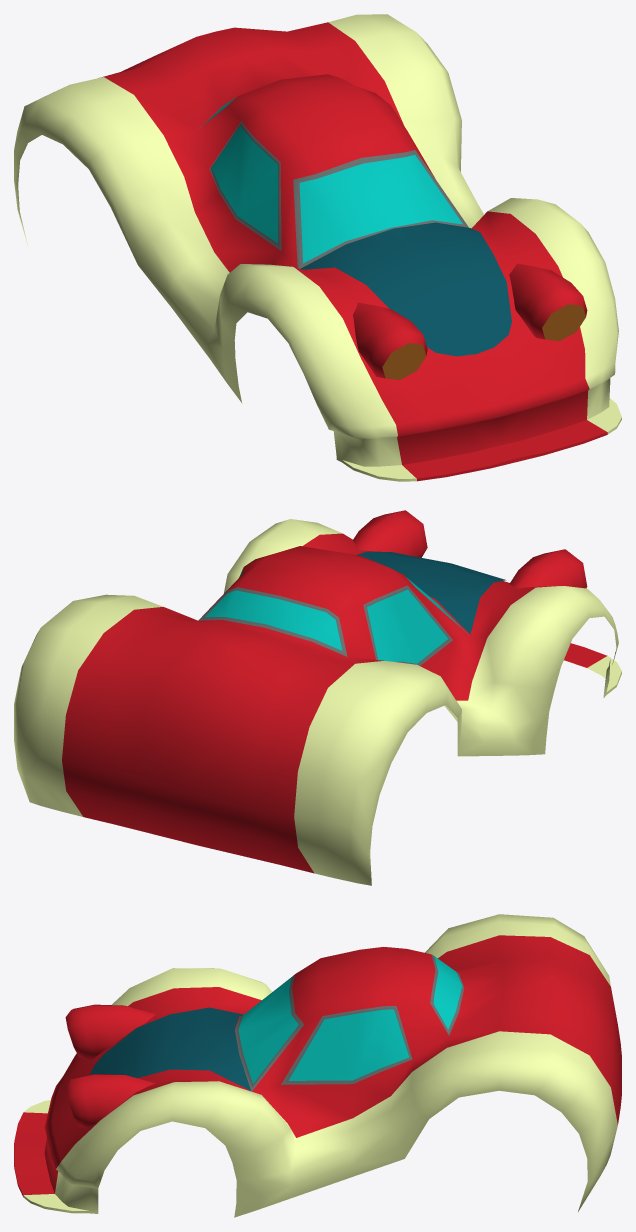
The model's file is LuxCasing02R01.gltf.
3 views of the same model, one above another, from view 1: azimuth 30°, elevation 25°; view 2: azimuth 150°, elevation 25°; view 3: azimuth 270°, elevation 25° (orthographic). The views are drawn at different scales.
Parts seen in each view (by area): view 1: LuxCasing02R01; view 2: LuxCasing02R01; view 3: LuxCasing02R01.
Part boxes in pixels (bbox=[...]): LuxCasing02R01: bbox=[14, 14, 621, 481]; LuxCasing02R01: bbox=[14, 510, 621, 885]; LuxCasing02R01: bbox=[14, 914, 621, 1217].
Size of the model in its own units: 0.2179 by 0.1224 by 0.3506.
1 material, 1 textured.
